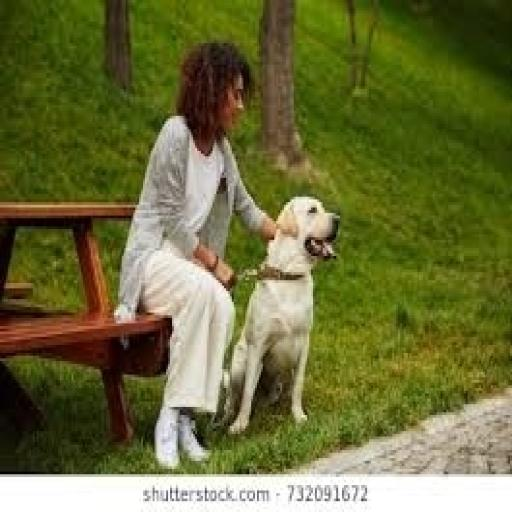sitting: (112, 35, 280, 469)
